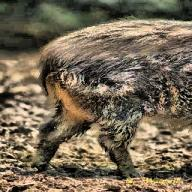boar: (30, 16, 191, 180)
